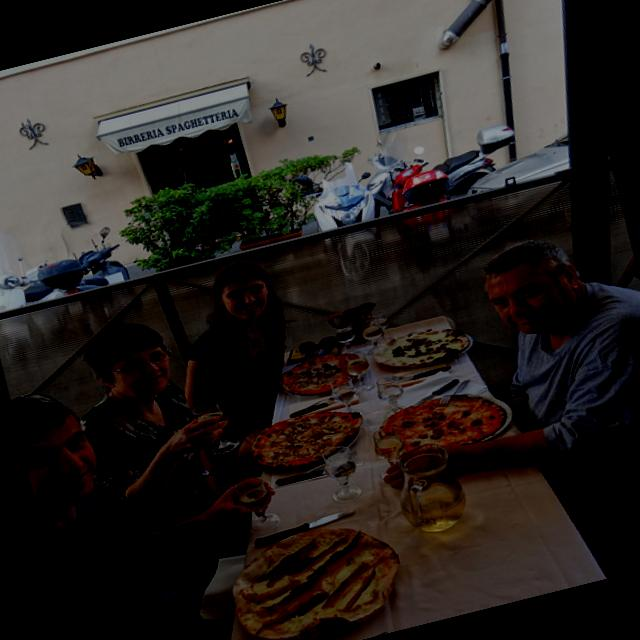Vehicle: (355, 106, 526, 218), (438, 118, 610, 202), (18, 212, 128, 304), (294, 156, 381, 235), (379, 140, 454, 214), (0, 242, 46, 315)
